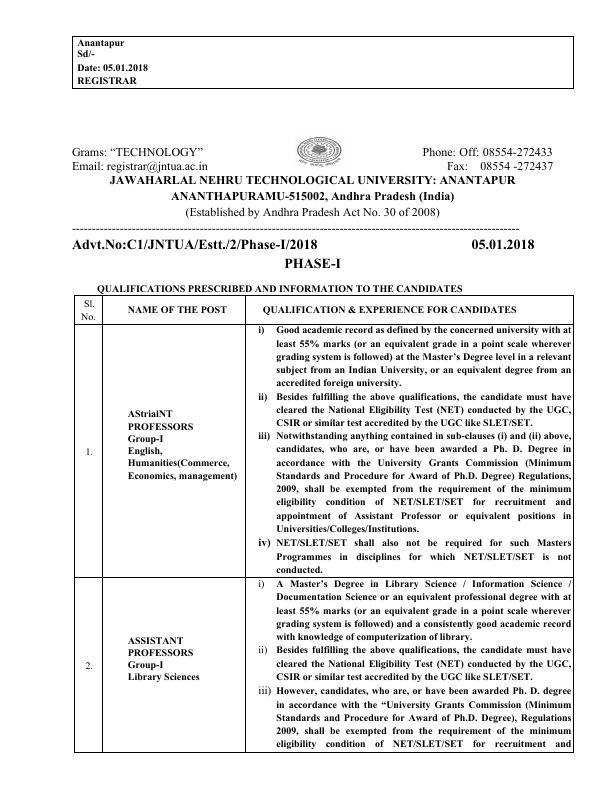table: (72, 294, 580, 761), (68, 31, 578, 97)
text: (107, 172, 524, 221), (68, 235, 544, 252), (95, 282, 468, 293), (421, 142, 558, 171), (67, 144, 213, 171), (279, 256, 349, 268)
